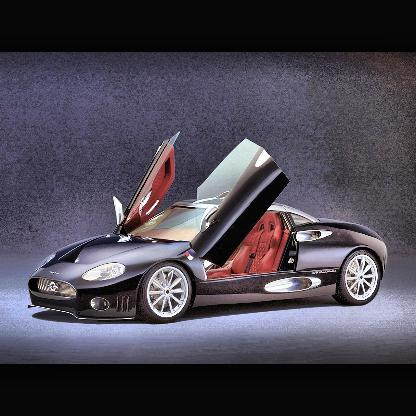Spyker C8 Convertible 2009: (25, 129, 389, 327)
